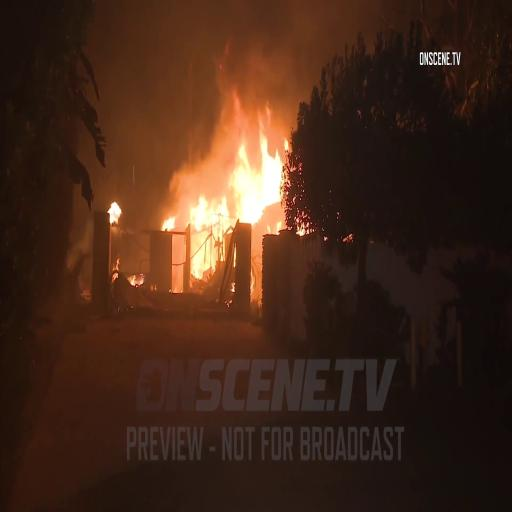fire: (182, 119, 282, 225)
